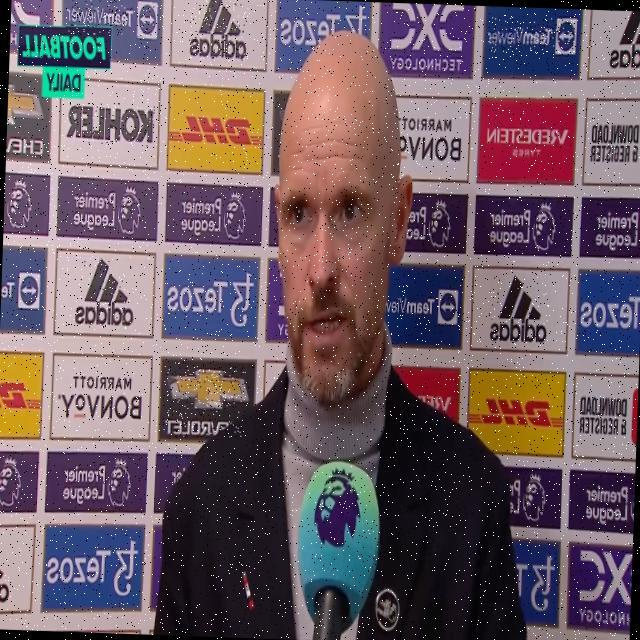Adidas: (73, 257, 135, 329), (488, 274, 549, 344), (188, 0, 248, 60)
Chevrolet: (162, 361, 246, 439)
Kohler: (66, 101, 154, 146)
TeamViewer: (486, 16, 577, 55), (65, 0, 158, 37)
